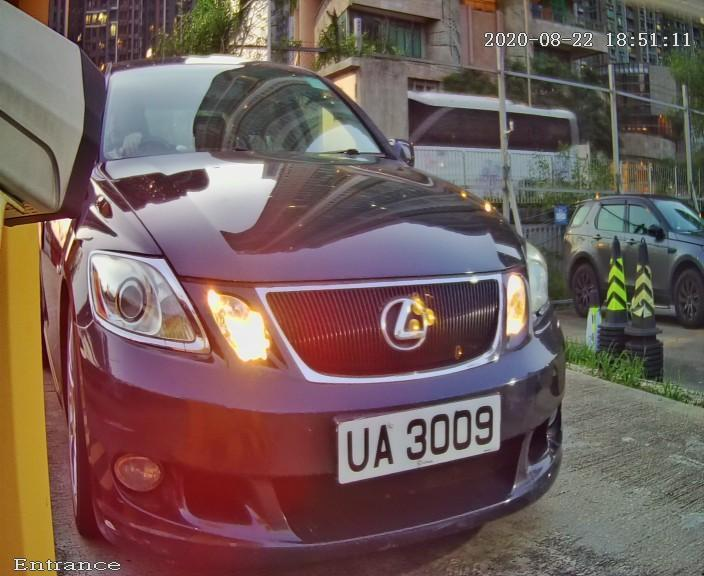Car: (29, 3, 610, 576)
License Plate: (302, 376, 544, 493)
